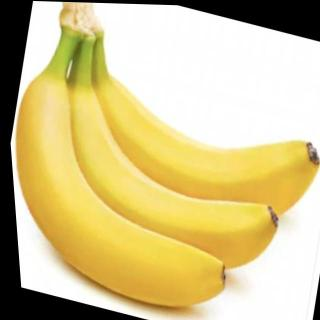banana: (4, 68, 260, 320), (16, 75, 300, 291), (54, 69, 320, 247)
